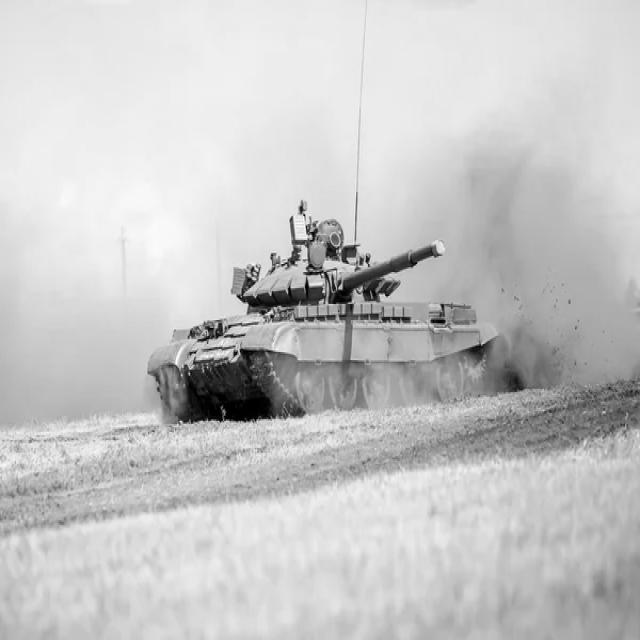Tank: (145, 199, 504, 431)
